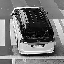motor: (15, 3, 46, 58)
